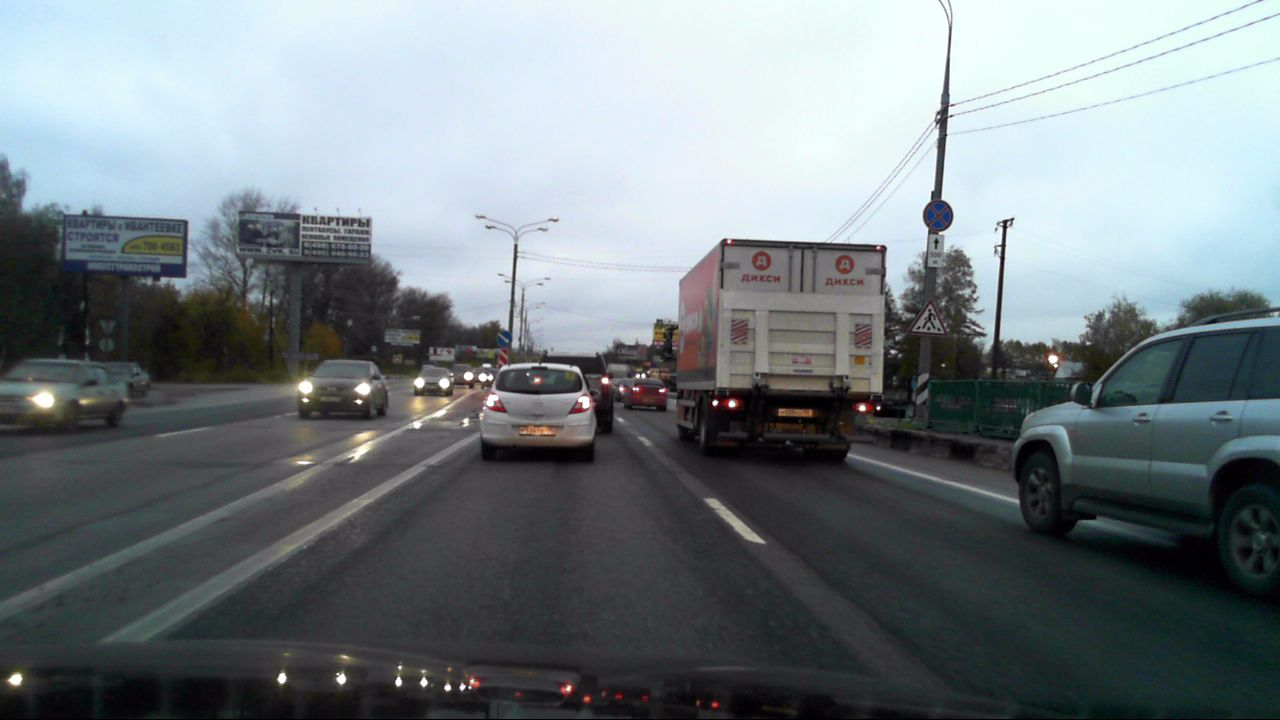No Parking: (922, 200, 953, 232)
